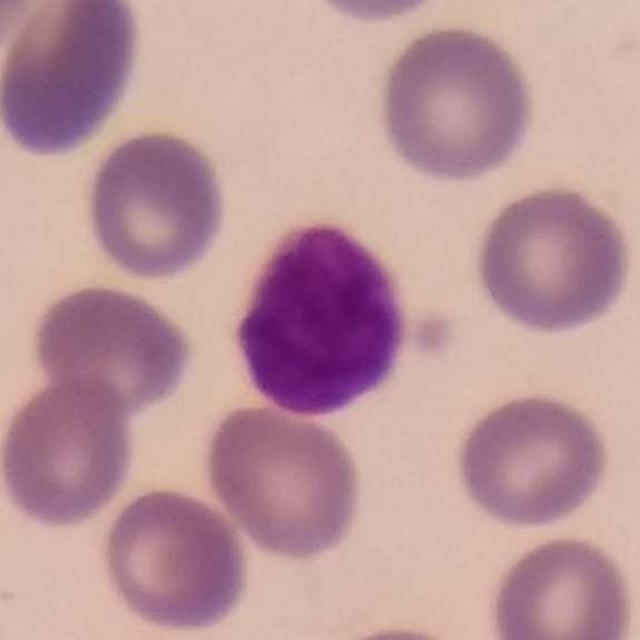Lymphocyte: (236, 213, 450, 422)
RBC: (372, 20, 541, 186), (200, 400, 368, 564), (469, 180, 636, 338), (80, 123, 232, 284), (95, 482, 254, 635), (27, 280, 199, 420), (0, 0, 148, 161), (452, 389, 614, 533), (0, 371, 140, 532), (483, 531, 638, 640), (291, 0, 463, 27)
